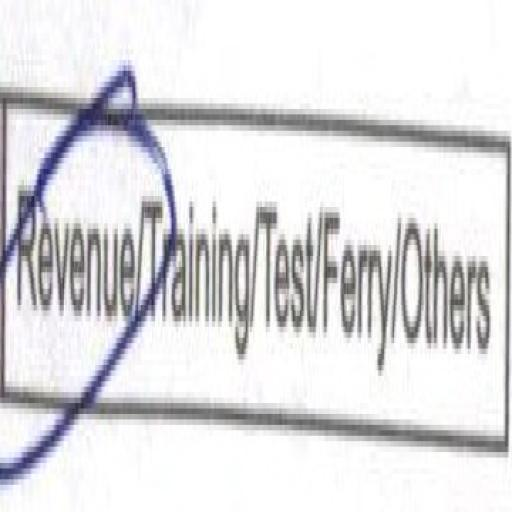check: (0, 12, 141, 439)
